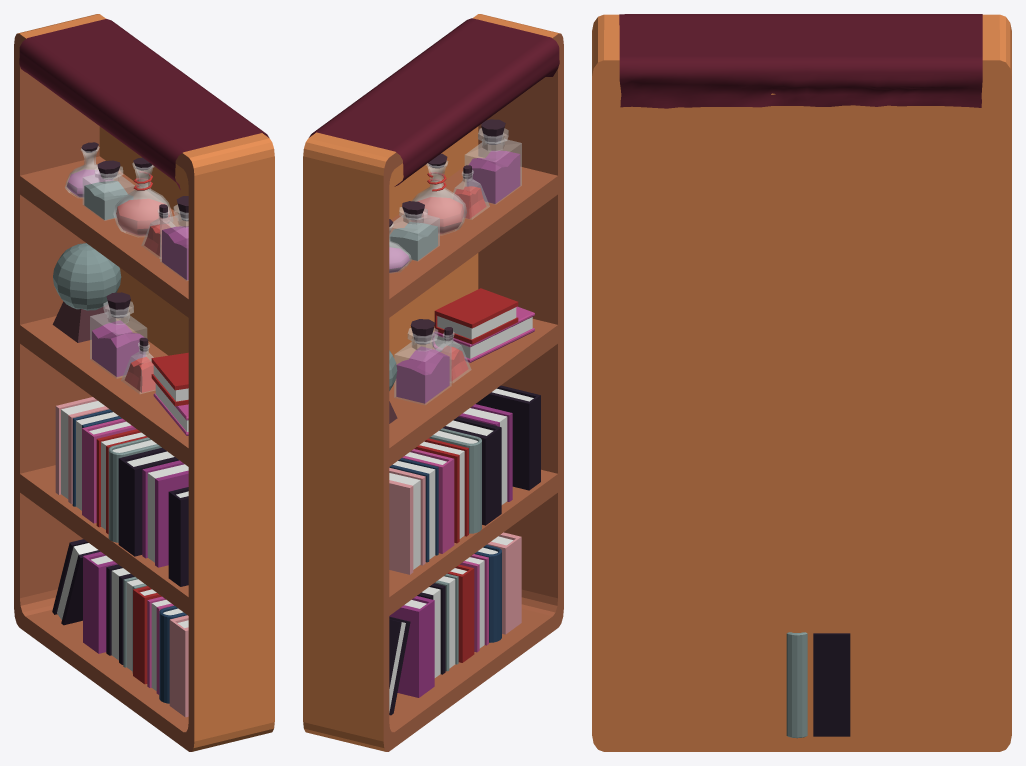
File: Estante-completa.fbx
3 renders of one model, left to right at view 1: azimuth 30°, elevation 25°; view 2: azimuth 150°, elevation 25°; view 3: azimuth 270°, elevation 25°, orthographic. The views are drawn at different scales.
Visible parts, largest first — view 1: Cylinder.018; view 2: Cylinder.018; view 3: Cylinder.018.
Part boxes in pixels (left/top/right/bottom): Cylinder.018: left=14, top=14, right=274, bottom=751; Cylinder.018: left=303, top=14, right=563, bottom=751; Cylinder.018: left=592, top=14, right=1011, bottom=751.
Size of the model in its own units: 0.4114 by 2.4 by 1.32.
